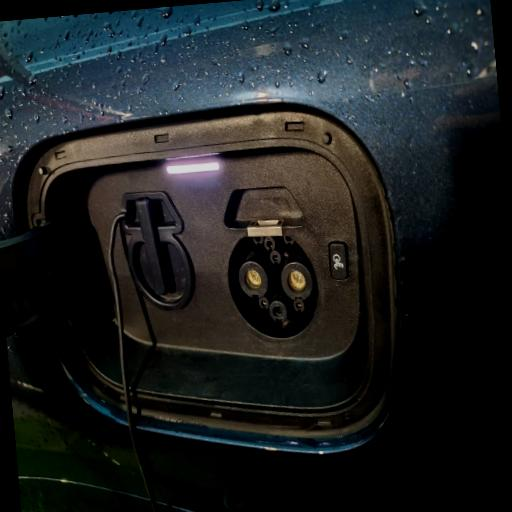DC_charging_port: (222, 226, 324, 348)
DC_hole: (278, 258, 316, 304), (236, 258, 270, 301)
PE: (268, 298, 290, 326)
